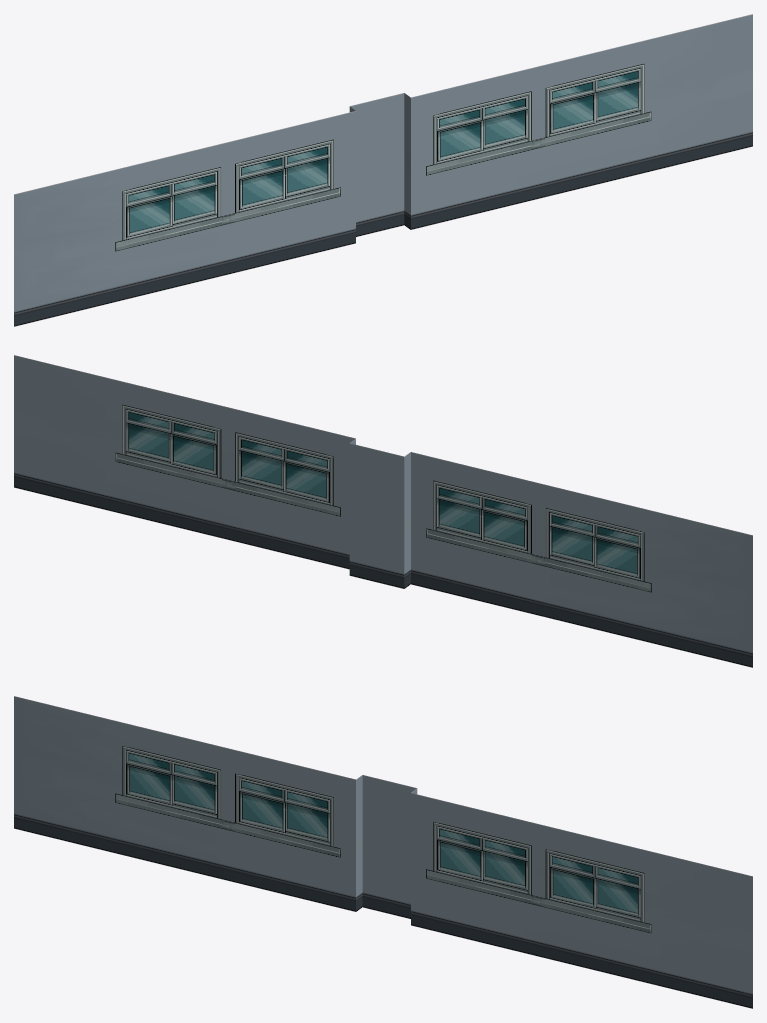
File: ClassRoom_wall_in.fbx
3 views of the same model, one above another, from view 1: azimuth 30°, elevation 25°; view 2: azimuth 150°, elevation 25°; view 3: azimuth 330°, elevation 25° (orthographic).
Visible parts, largest first — view 1: ClassRoom_wall_in; view 2: ClassRoom_wall_in; view 3: ClassRoom_wall_in.
Boxes of the visible parts, <box> form: ClassRoom_wall_in: <box>14,14,752,326</box>; ClassRoom_wall_in: <box>14,355,752,667</box>; ClassRoom_wall_in: <box>14,696,752,1008</box>.
Bounding box in the file's own units: 2100 × 360 × 31.57.
